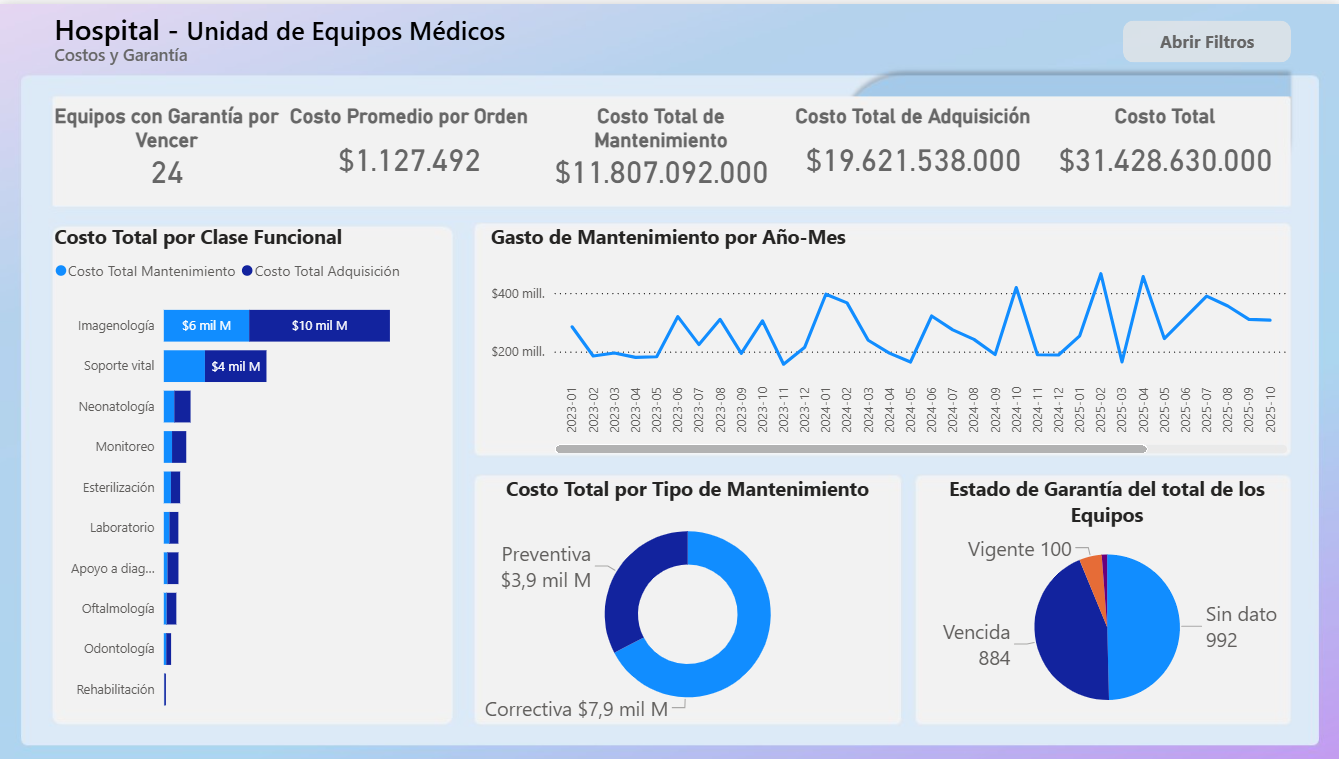

The page's visual inventory and layout, read from the dashboard file:
{"tool":"powerbi","page":{"name":"Costos y Garantía","canvas":[1280,720],"ordinal":2},"visuals":[{"type":"card","title":"Equipos con Garantía por Vencer","fields":{"Values":["_Medidas.Equipos Garantía por Vencer"]},"box":[48,96,224,80],"z":0},{"type":"actionButton","title":"Open","box":[1072,16,160,40],"z":1000,"group":"g1"},{"type":"card","title":"Costo Promedio por Orden","fields":{"Values":["_Medidas.Costo Promedio por Orden"]},"box":[272,96,240,80],"z":1000},{"type":"lineChart","title":"Gasto de Mantenimiento por Año-Mes","fields":{"Category":["dim_fecha.anio_mes"],"Y":["_Medidas.Costo Total Mantenimiento"]},"box":[464,208,768,224],"z":2000},{"type":"barChart","title":"Costo Total por Clase Funcional","fields":{"Category":["dim_equipo.clase_funcional"],"Y":["_Medidas.Costo Total Mantenimiento","_Medidas.Costo Total Adquisición"]},"box":[48,208,384,480],"z":3000},{"type":"pieChart","title":"Estado de Garantía del total de los Equipos ","fields":{"Category":["dim_equipo.estado_garantia"],"Y":["CountNonNull(dim_equipo.equipo_id)"]},"box":[880,448,352,240],"z":4000},{"type":"card","title":"Costo Total","fields":{"Values":["_Medidas.Costo Total"]},"box":[992,96,240,80],"z":5000},{"type":"donutChart","title":"Costo Total por Tipo de Mantenimiento","fields":{"Category":["dim_tipo_mantenimiento.nombre_tipo"],"Y":["_Medidas.Costo Total Mantenimiento"]},"box":[448,448,416,240],"z":6000},{"type":"group","id":"g1","title":"Buttons","box":[1072,16,160,40],"z":8000},{"type":"textbox","box":[48,0,448,48],"z":9000},{"type":"textbox","box":[48,32,304,32],"z":10000},{"type":"card","title":"Costo Total de Adquisición","fields":{"Values":["_Medidas.Costo Total Adquisición"]},"box":[752,96,240,80],"z":11000},{"type":"card","title":"Costo Total de Mantenimiento","fields":{"Values":["_Medidas.Costo Total Mantenimiento"]},"box":[512,96,240,80],"z":12000}]}

Visuals, with their boxes in screenshot pixels (x1, y1, x2, y2), scaled from the page's 1280x720 canvas onto the 1339x759 screenshot:
"Equipos con Garantía por Vencer" card: locate(50, 101, 285, 186)
"Open" actionButton: locate(1121, 17, 1289, 59)
"Costo Promedio por Orden" card: locate(285, 101, 536, 186)
"Gasto de Mantenimiento por Año-Mes" lineChart: locate(485, 219, 1289, 455)
"Costo Total por Clase Funcional" barChart: locate(50, 219, 452, 725)
"Estado de Garantía del total de los Equipos " pieChart: locate(921, 472, 1289, 725)
"Costo Total" card: locate(1038, 101, 1289, 186)
"Costo Total por Tipo de Mantenimiento" donutChart: locate(469, 472, 904, 725)
"Buttons" group: locate(1121, 17, 1289, 59)
textbox: locate(50, 0, 519, 51)
textbox: locate(50, 34, 368, 67)
"Costo Total de Adquisición" card: locate(787, 101, 1038, 186)
"Costo Total de Mantenimiento" card: locate(536, 101, 787, 186)
